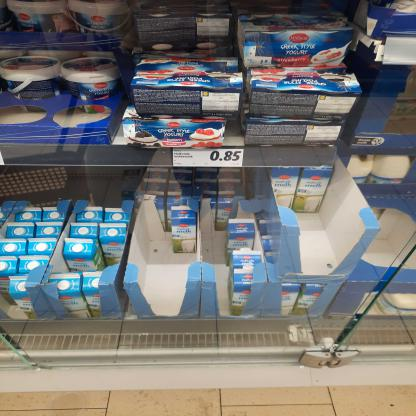prtg: (174, 150, 245, 168)
